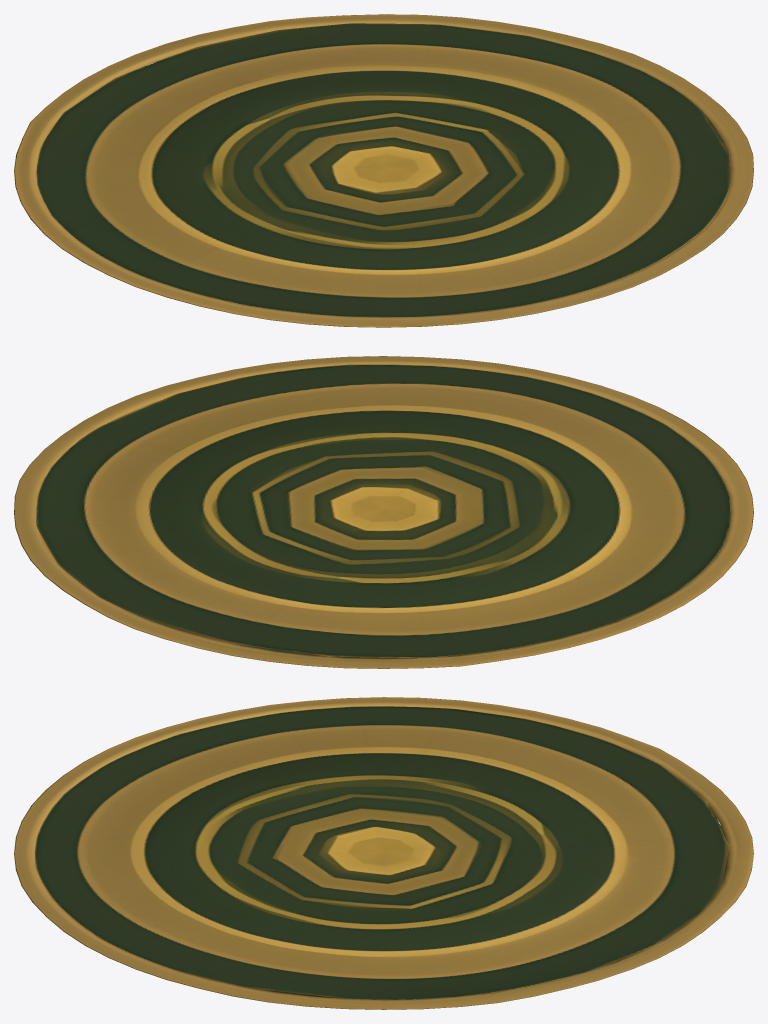
Rendered from tappeto_tondo.glb.
The picture shows the model from 3 angles, top to bottom: view 1: azimuth 30°, elevation 25°; view 2: azimuth 150°, elevation 25°; view 3: azimuth 270°, elevation 25°; orthographic projection.
Visible parts, largest first — view 1: tappeto_tondo; view 2: tappeto_tondo; view 3: tappeto_tondo.
Boxes of the visible parts, x1,y1,x2,y2 form: tappeto_tondo: (14,14,753,327); tappeto_tondo: (14,356,753,668); tappeto_tondo: (14,697,753,1009).
Bounding box in the file's own units: 0.9995 × 0.015 × 0.9995.
1 material, 1 textured.
